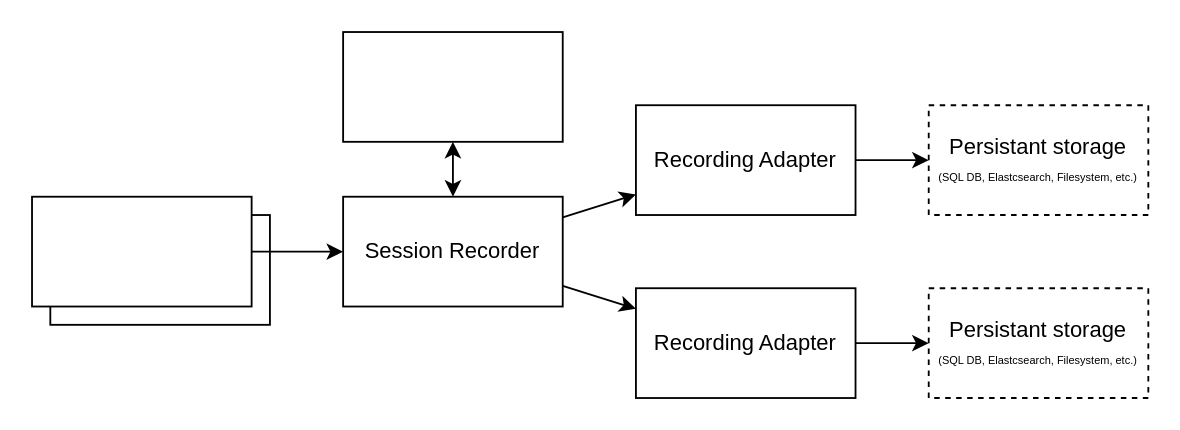
The diagram is 1180 pixels wide and 430 high, and some of its shapes have lost their labels. Here are the shapes that lost their labels. From the top down, the centre of each, then its label:
At (x=452, y=86): "Time Manager".
At (x=141, y=251): "Recorded Actor Component".
